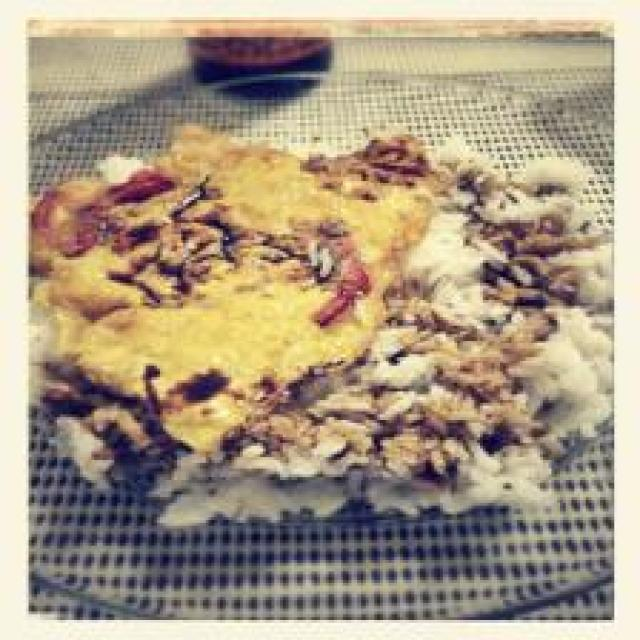Wet Waste: (49, 145, 613, 520)
